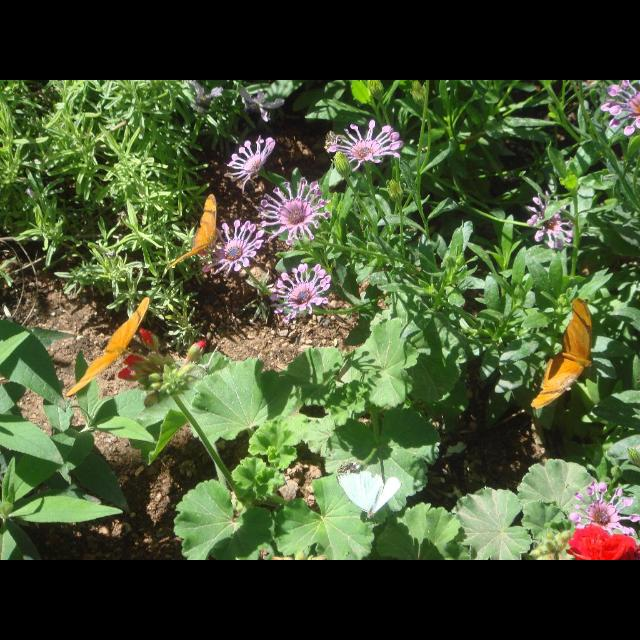Flower: (256, 175, 334, 243), (196, 212, 268, 278), (324, 119, 404, 171), (568, 479, 638, 535), (269, 262, 333, 316), (222, 134, 276, 193), (524, 193, 572, 253), (562, 526, 640, 560), (596, 80, 638, 138), (236, 86, 284, 120), (188, 80, 222, 104)
